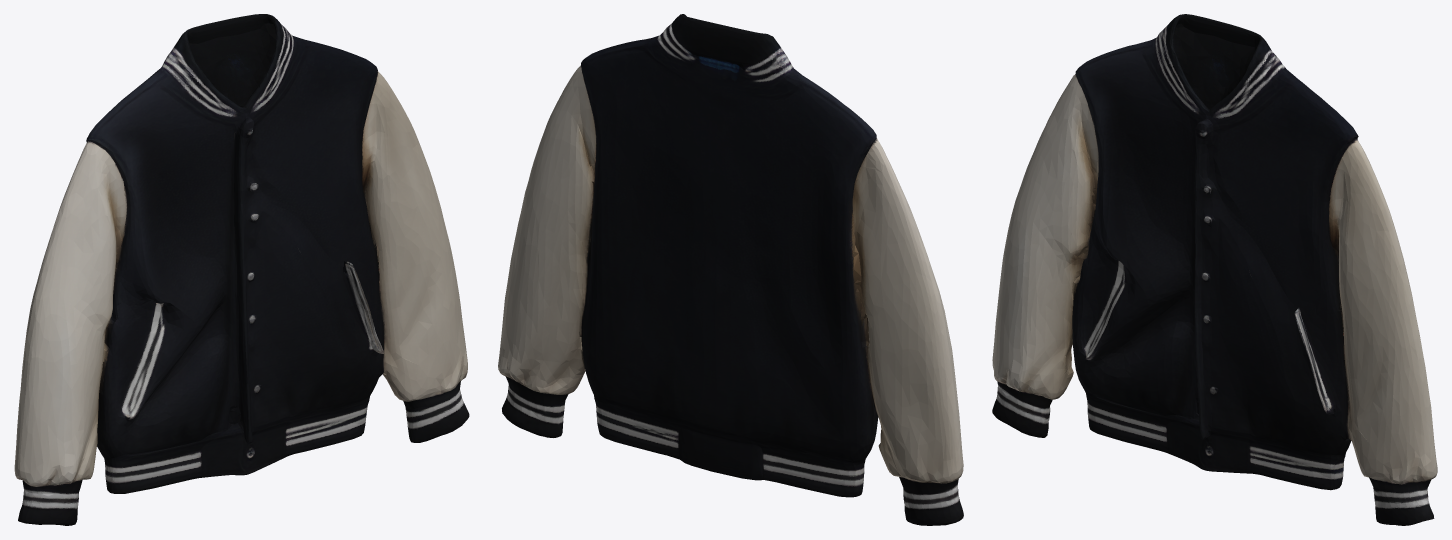
Rendered from varsity-jacket-black-cream.glb.
The picture shows the model from 3 angles, left to right: view 1: azimuth 30°, elevation 25°; view 2: azimuth 150°, elevation 25°; view 3: azimuth 330°, elevation 25°; orthographic projection. The views are drawn at different scales.
Visible parts, largest first — view 1: geometry_0; view 2: geometry_0; view 3: geometry_0.
Boxes of the visible parts, <box> form: geometry_0: <box>14,14,469,525</box>; geometry_0: <box>498,14,963,525</box>; geometry_0: <box>992,14,1437,525</box>.
Bounding box in the file's own units: 0.9959 × 0.9606 × 0.132.
1 material, 1 textured.
